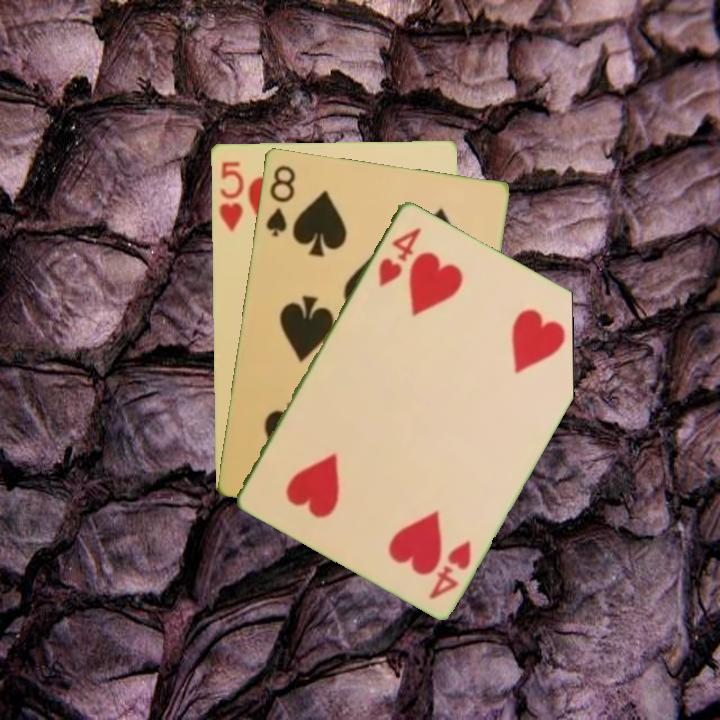4h: (374, 223, 424, 289), (425, 536, 474, 602)
5h: (215, 157, 246, 234)
8s: (262, 161, 298, 239)
